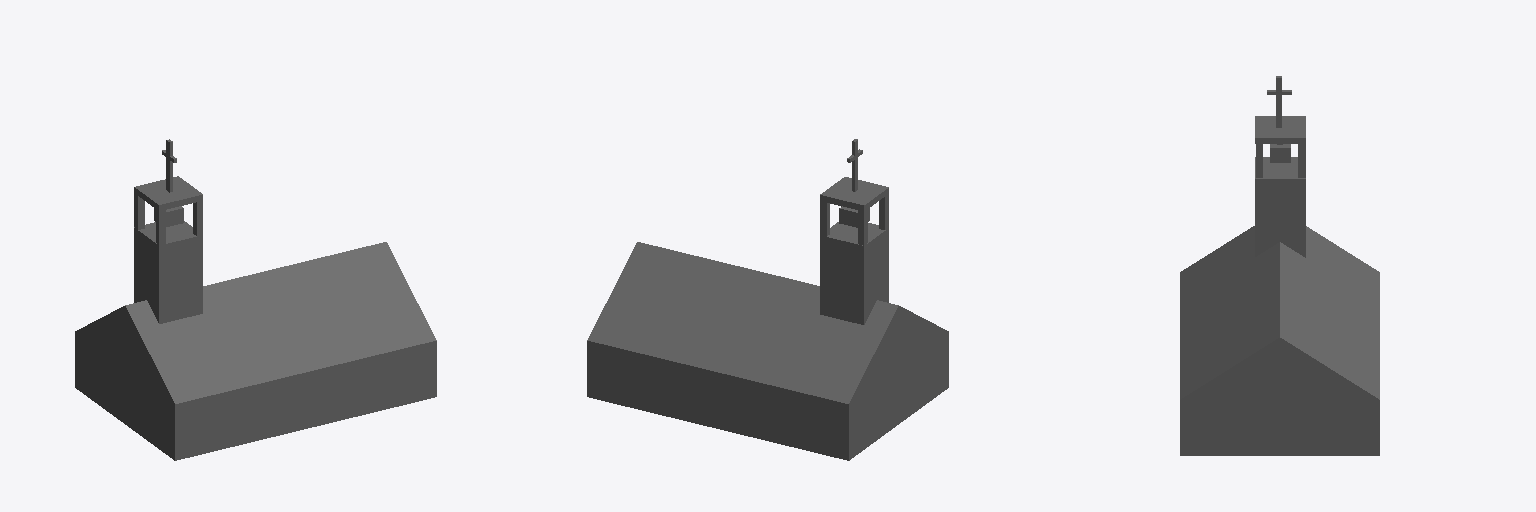
The model's file is Church.obj.
The picture shows the model from 3 angles: view 1: azimuth 30°, elevation 25°; view 2: azimuth 150°, elevation 25°; view 3: azimuth 270°, elevation 25°; orthographic projection.
Parts seen in each view (by area): view 1: Box010; view 2: Box010; view 3: Box010.
Boxes of the visible parts, x1,y1,x2,y2 form: Box010: [75, 139, 436, 460]; Box010: [587, 139, 948, 460]; Box010: [1180, 76, 1379, 455].
Bounding box in the file's own units: 240 × 240 × 159.